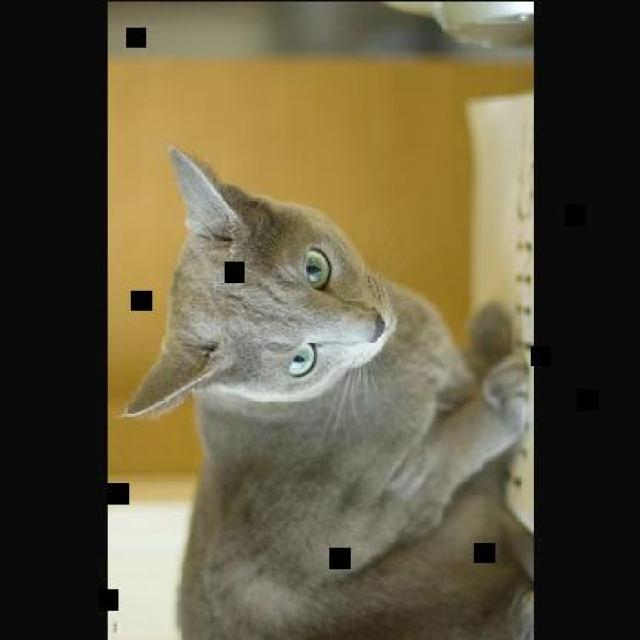unauthorized: (115, 144, 534, 638)
